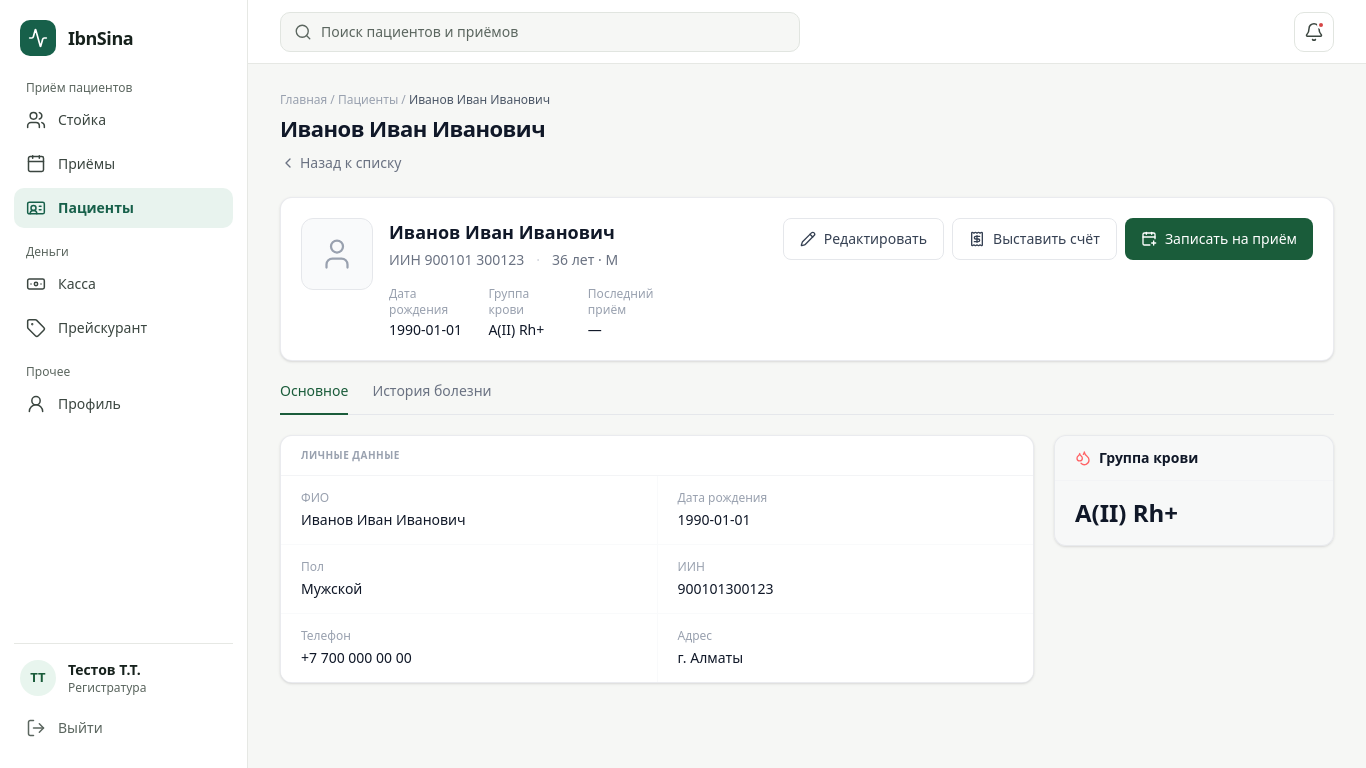
Test case: карточка пациента › история болезни: время приёма видно только у начатых — фактическое «с–до»
The width and height of the screenshot is (1366, 768).
Click the button "История болезни": (432, 398) [372,381,492,415]
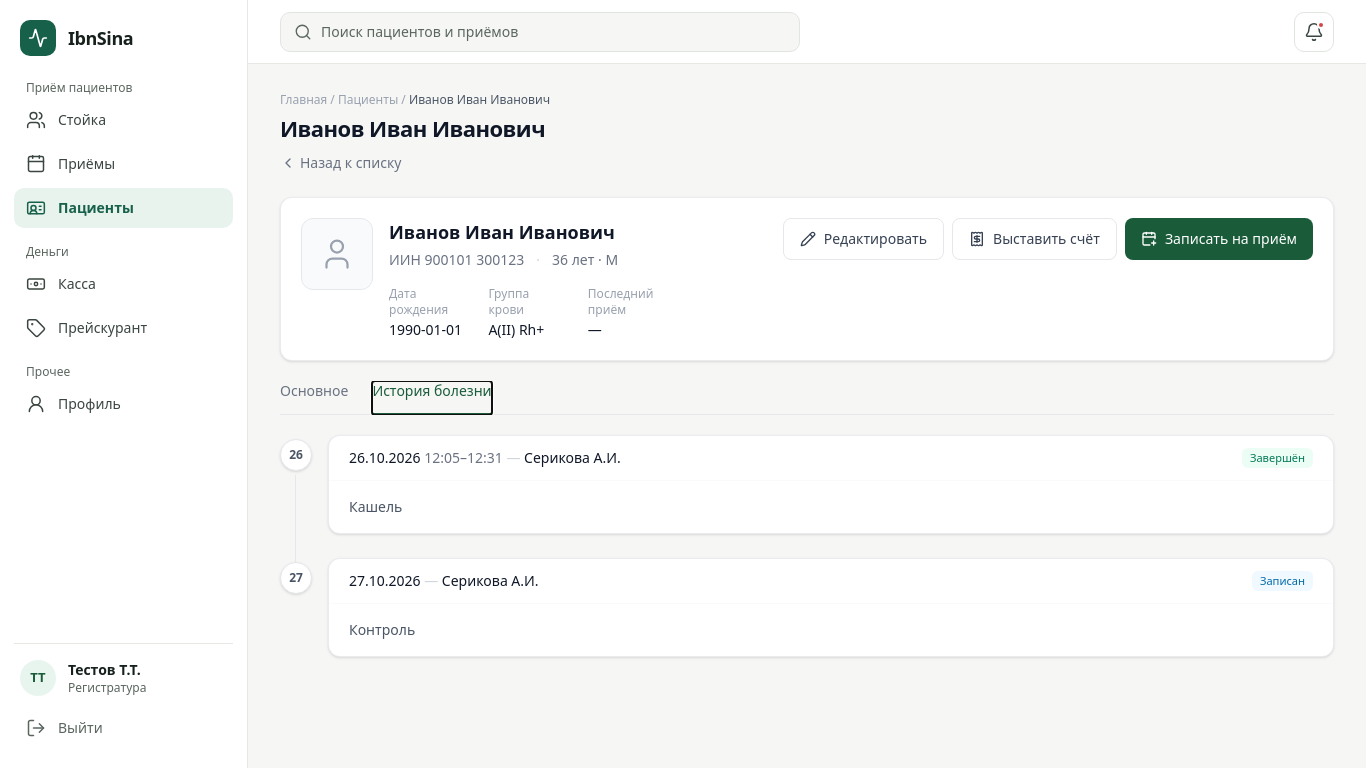
Now the text "12:05–12:31" is shown, box [424,448,503,467]
Now the text "Контроль" is shown, box [349,620,415,639]
